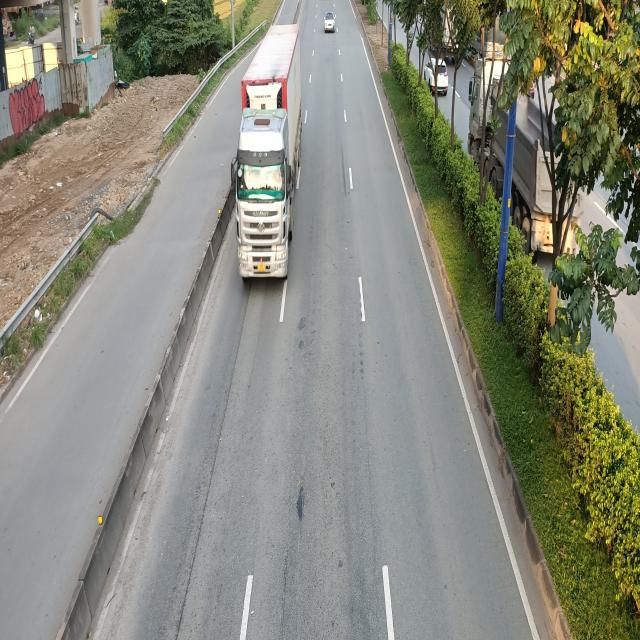car: (323, 8, 335, 32)
container: (232, 26, 302, 286)
